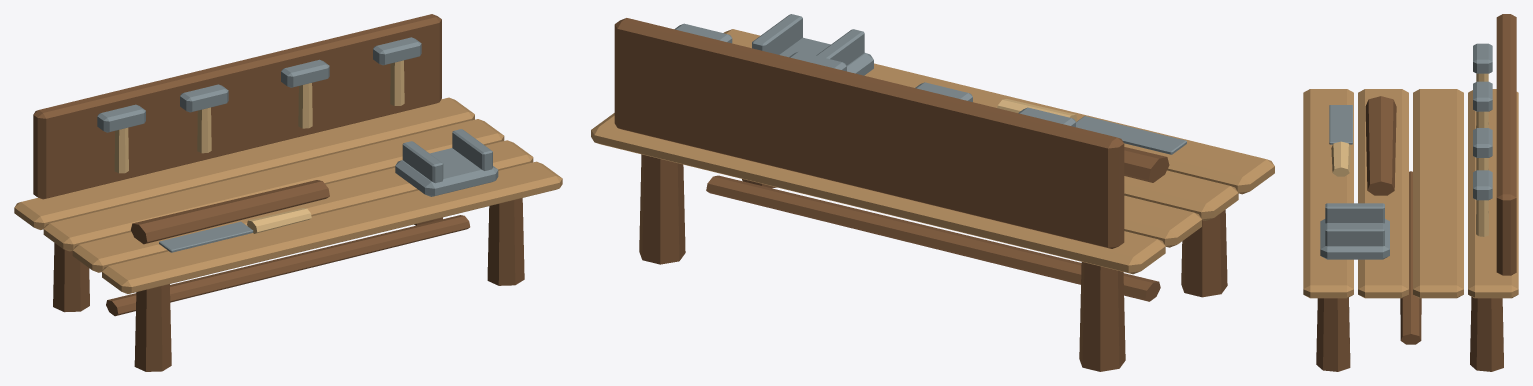
The model's file is CC_Workshop.fbx.
3 views of the same model, side by side, from view 1: azimuth 30°, elevation 25°; view 2: azimuth 150°, elevation 25°; view 3: azimuth 270°, elevation 25° (orthographic). The views are drawn at different scales.
Parts seen in each view (by area): view 1: Backboard, Plank.016, Plank.019, Plank.018, Plank.017, Brace.004, Uncut twig, Leg.022, Leg.020, Vise base, Leg.021, Saw blade (+11 smaller); view 2: Backboard, Plank.019, Brace.004, Plank.016, Leg.023, Leg.021, Plank.017, Leg.020, Plank.018, Saw blade, Vise jaw.001, Uncut twig (+3 smaller); view 3: Plank.018, Plank.016, Plank.017, Backboard, Plank.019, Uncut twig, Leg.022, Leg.023, Brace.004, Vise base, Vise jaw.001, Vise jaw (+8 smaller).
Part boxes in pixels (left/top/right/bottom): Backboard: left=33, top=14, right=441, bottom=199; Plank.016: left=102, top=161, right=562, bottom=293; Plank.019: left=14, top=97, right=474, bottom=229; Plank.018: left=43, top=119, right=504, bottom=251; Plank.017: left=72, top=140, right=533, bottom=272; Brace.004: left=106, top=215, right=470, bottom=316; Uncut twig: left=131, top=180, right=329, bottom=244; Leg.022: left=487, top=198, right=524, bottom=285; Leg.020: left=134, top=284, right=171, bottom=371; Vise base: left=395, top=148, right=498, bottom=196; Leg.021: left=53, top=243, right=89, bottom=312; Saw blade: left=159, top=221, right=253, bottom=252; Backboard: left=614, top=18, right=1124, bottom=248; Plank.019: left=591, top=113, right=1165, bottom=274; Brace.004: left=706, top=175, right=1160, bottom=301; Plank.016: left=723, top=29, right=1274, bottom=194; Leg.023: left=639, top=154, right=685, bottom=264; Leg.021: left=1079, top=262, right=1125, bottom=371; Plank.017: left=1124, top=170, right=1238, bottom=220; Leg.020: left=1181, top=210, right=1227, bottom=297; Plank.018: left=1124, top=195, right=1201, bottom=247; Saw blade: left=1076, top=116, right=1186, bottom=154; Vise jaw.001: left=752, top=14, right=802, bottom=54; Uncut twig: left=1124, top=147, right=1169, bottom=182; Plank.018: left=1413, top=89, right=1463, bottom=298; Plank.016: left=1303, top=89, right=1353, bottom=298; Plank.017: left=1358, top=89, right=1408, bottom=298; Backboard: left=1496, top=14, right=1516, bottom=275; Plank.019: left=1468, top=89, right=1518, bottom=298; Uncut twig: left=1365, top=96, right=1396, bottom=195; Leg.022: left=1316, top=297, right=1350, bottom=371; Leg.023: left=1470, top=296, right=1503, bottom=371; Brace.004: left=1400, top=171, right=1421, bottom=344; Vise base: left=1320, top=219, right=1389, bottom=259; Vise jaw.001: left=1325, top=226, right=1384, bottom=246; Vise jaw: left=1325, top=203, right=1384, bottom=223.
Size of the model in its own units: 3.6 by 1.49 by 1.62.
